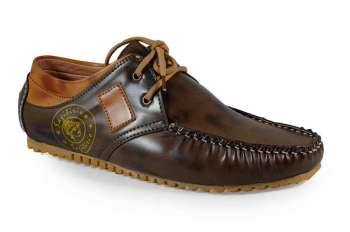Footwear: (16, 35, 328, 198)
